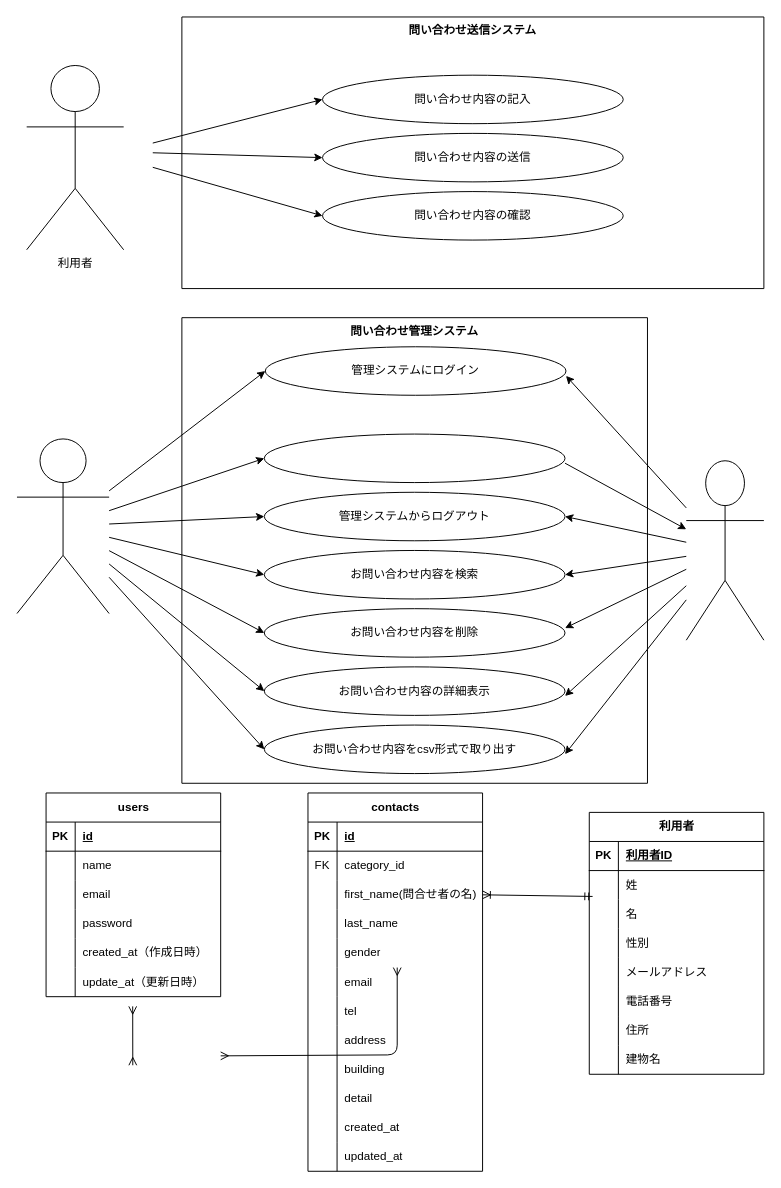
Some shapes in this 781 by 1188 pixel diagram are drawn without their labels. Each missing label, with the centre of its shape:
"新規ユーザーの作成・登録" belongs at (414,458).
"新規管理者" belongs at (724,550).
"管理者" belongs at (62,526).
